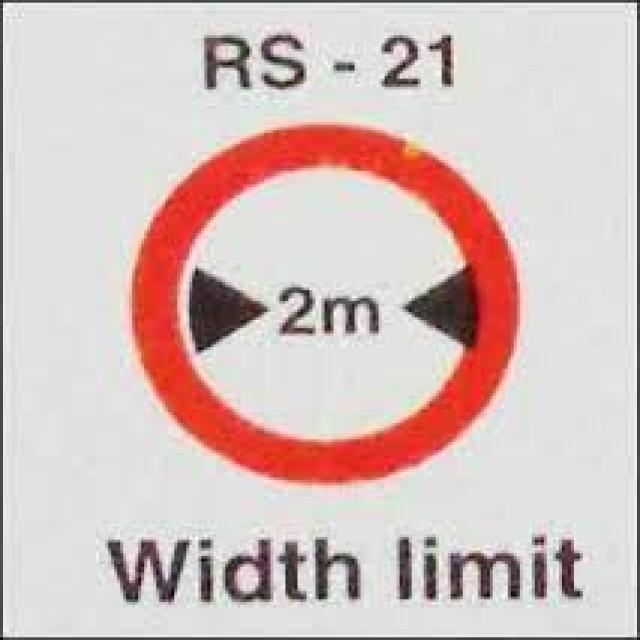width limit: (128, 121, 527, 492)
